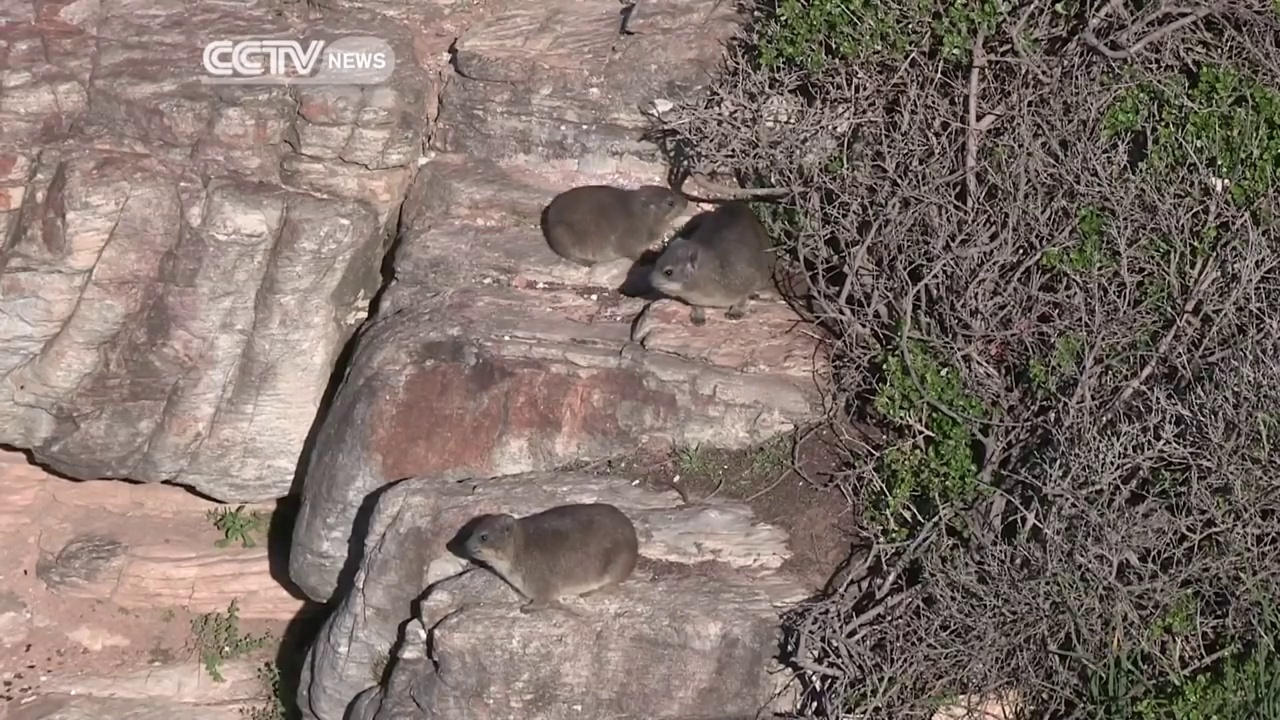Rock Hyrex: (456, 500, 639, 607), (651, 199, 785, 325), (545, 179, 691, 266)
